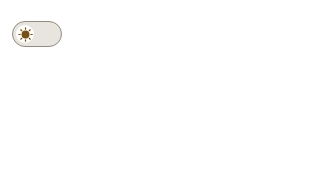
Test: continues to switch themes in the current page when storage is blocked
The image size is (332, 172).
What coordinates should you click on to do the following:
click the switch named "Dark theme"
I would click on:
 (37, 34)
Its box is x1=12 y1=12 x2=62 y2=56.
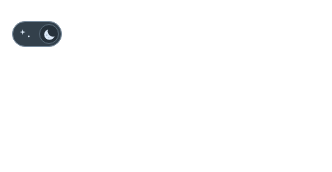
Check: the switch named "Dark theme" is checked, box x1=12 y1=12 x2=62 y2=56
